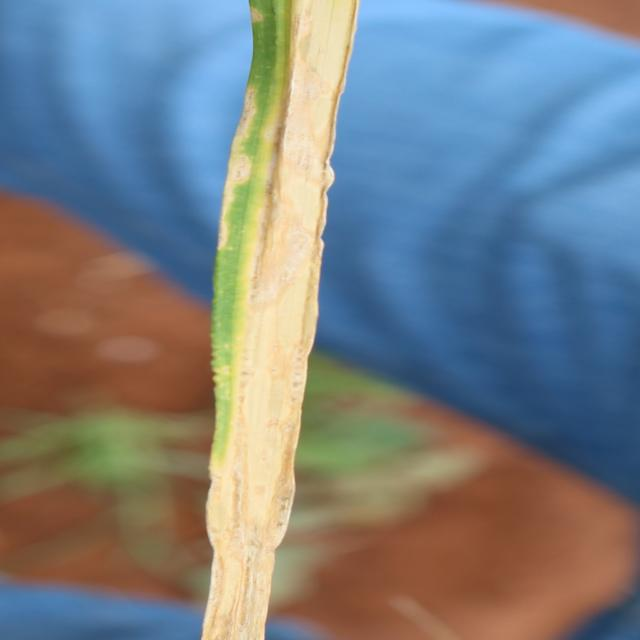Septoria: (198, 1, 360, 638)
